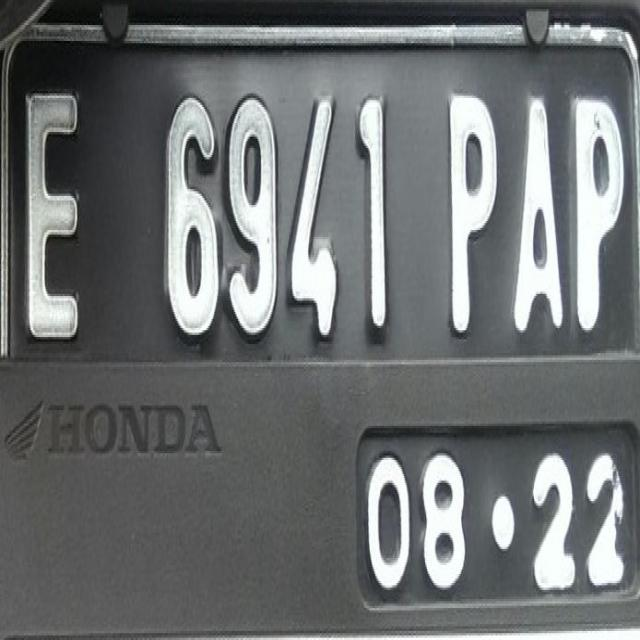plate: (3, 21, 639, 602)
